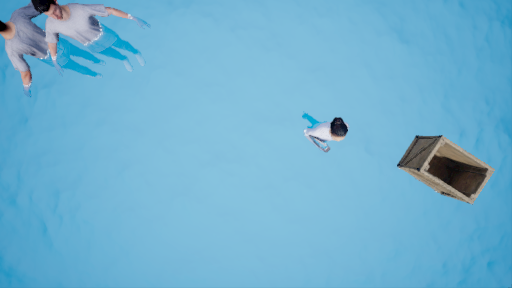person: (1, 2, 151, 84), (298, 112, 351, 148)
